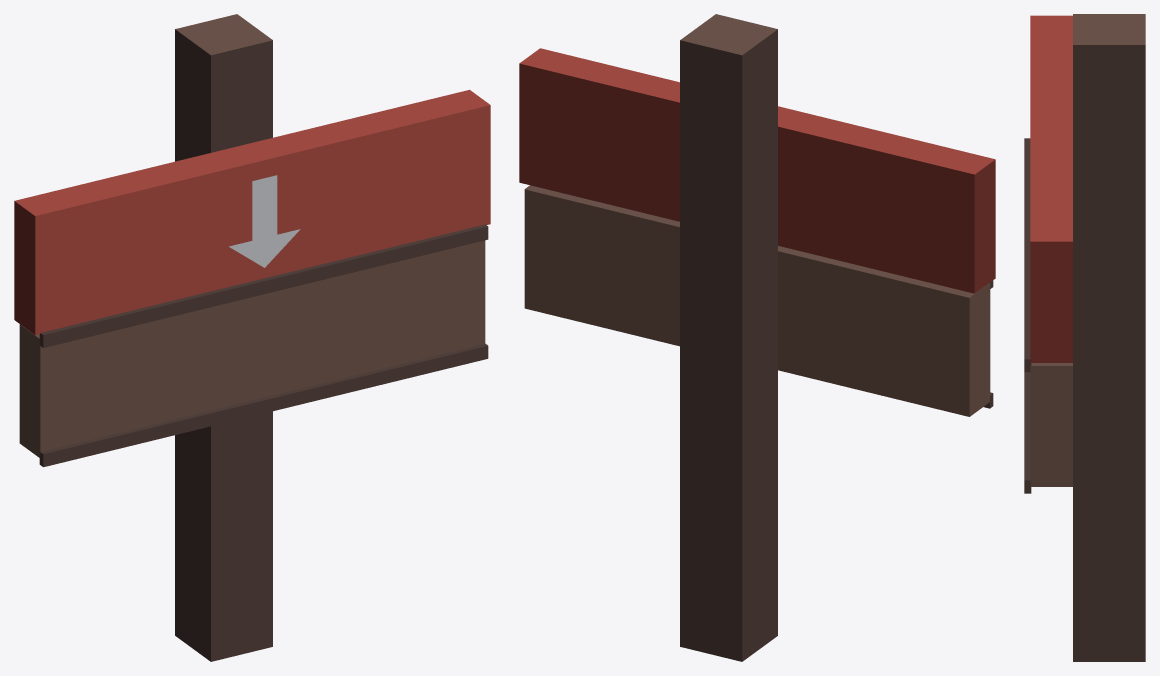
The model's file is sign_red.fbx.
3 renders of one model, left to right at view 1: azimuth 30°, elevation 25°; view 2: azimuth 150°, elevation 25°; view 3: azimuth 270°, elevation 25°, orthographic.
Parts seen in each view (by area): view 1: sign_red; view 2: sign_red; view 3: sign_red.
Boxes of the visible parts, box(x1,y1,x2,y2) form: sign_red: box(14, 14, 490, 661); sign_red: box(519, 14, 995, 661); sign_red: box(1024, 14, 1145, 661).
Bounding box in the file's own units: 0.44 × 0.56 × 0.1.
